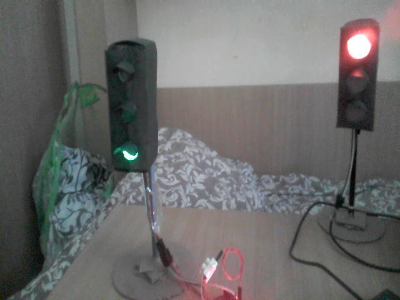trafficlight_green: (109, 50, 149, 168)
trafficlight_red: (338, 27, 377, 128)
